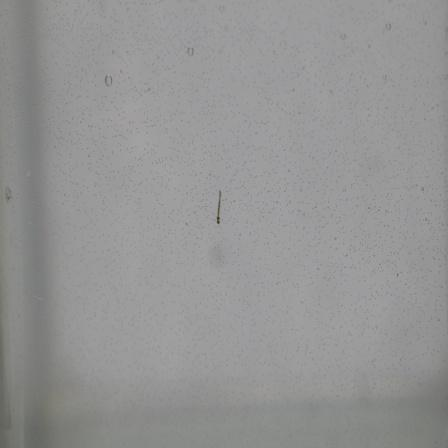Jentik-Nyamuk: (212, 186, 226, 229)
